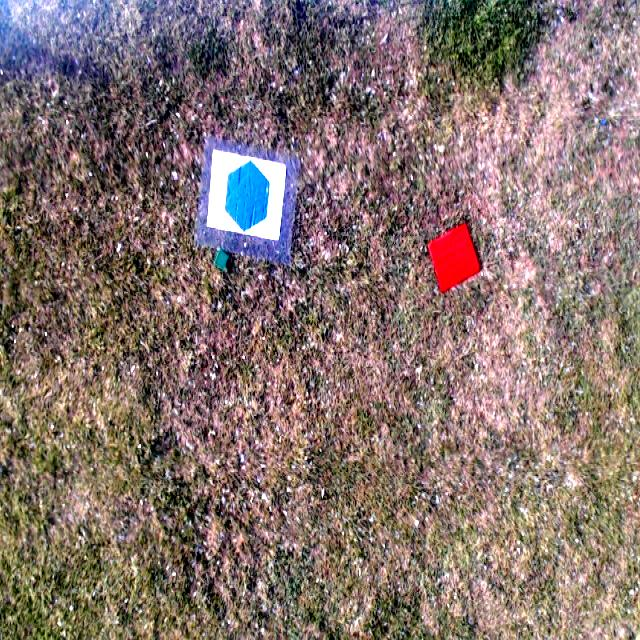blue_hexagon: (223, 154, 271, 236)
red_square: (425, 220, 485, 294)
